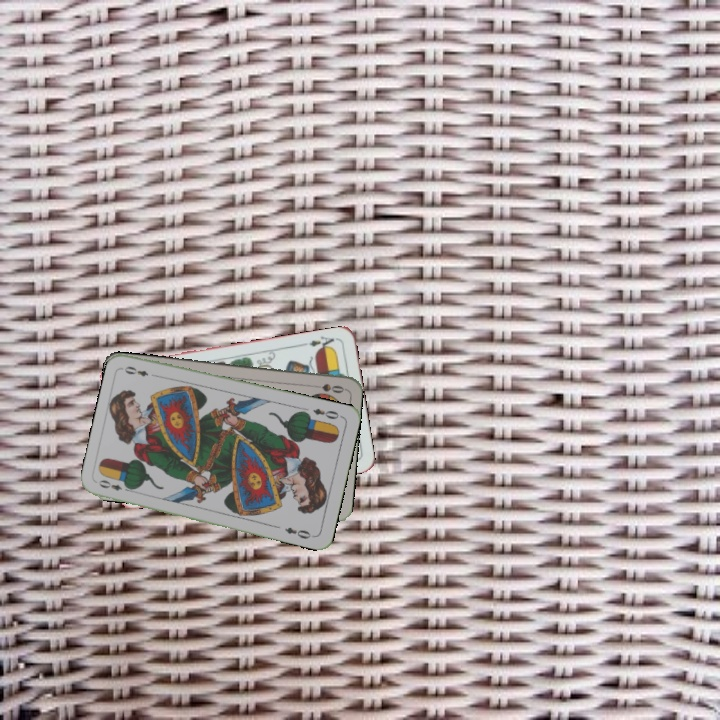EA: (299, 332, 340, 353)
EO: (94, 476, 134, 494), (309, 404, 345, 422)
SO: (306, 380, 346, 395)
